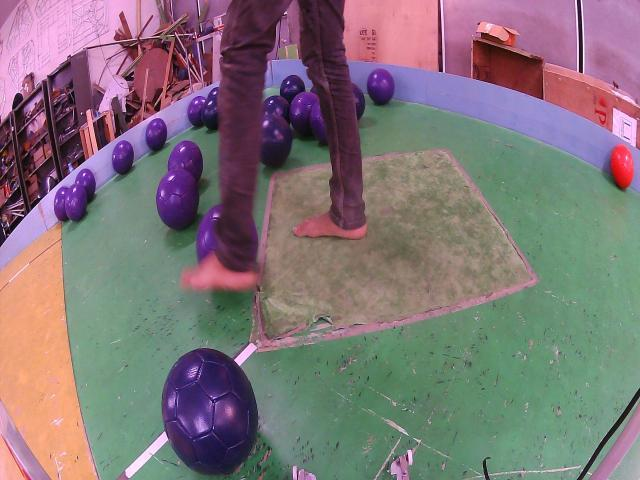jambhalya: (156, 168, 200, 230), (168, 140, 202, 182), (196, 205, 221, 262), (290, 92, 318, 135), (366, 68, 395, 105), (65, 183, 88, 222), (309, 100, 328, 143), (145, 118, 168, 150), (112, 140, 134, 173), (75, 168, 96, 201), (188, 95, 206, 127), (54, 187, 69, 221)
kaalyya: (161, 348, 258, 475), (260, 113, 292, 167), (262, 95, 290, 122), (280, 75, 305, 103), (201, 100, 218, 130), (352, 83, 365, 120), (206, 87, 219, 99)
